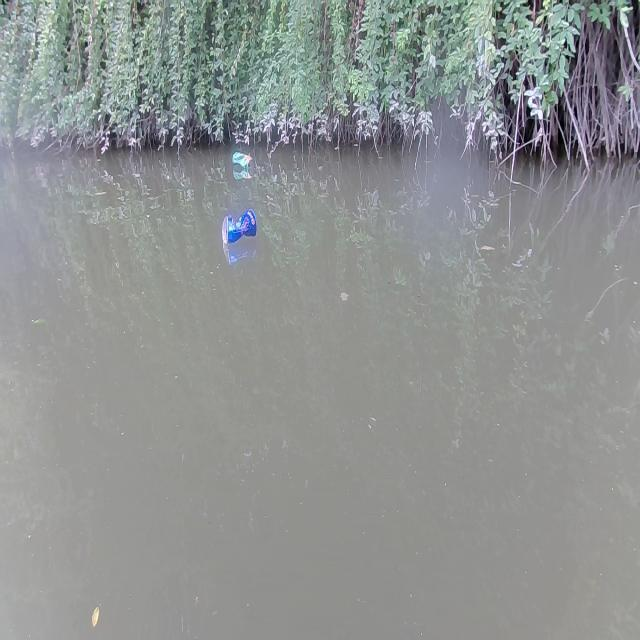bottle: (220, 207, 256, 249), (232, 148, 253, 172)
